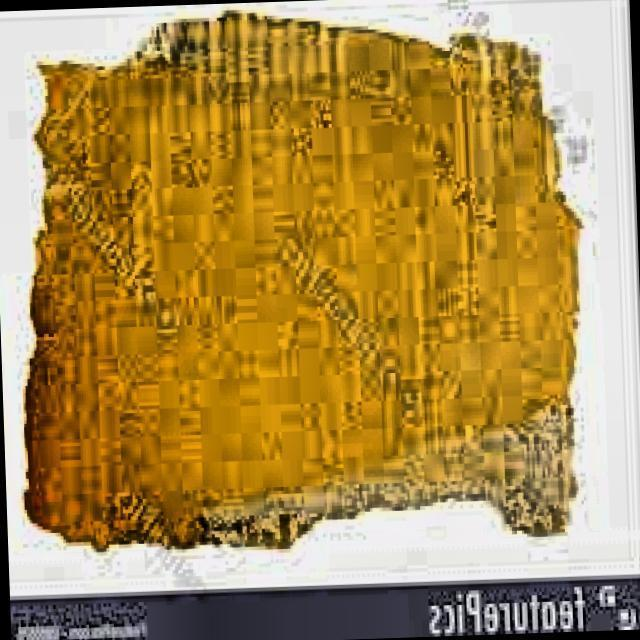cardboard: (7, 0, 595, 557)
